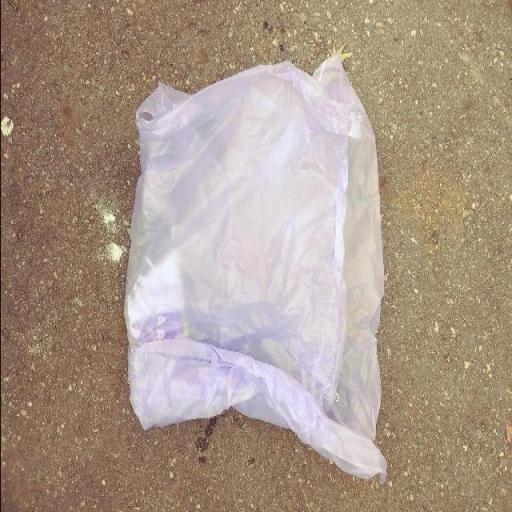plastic-bag: (118, 42, 396, 480)
